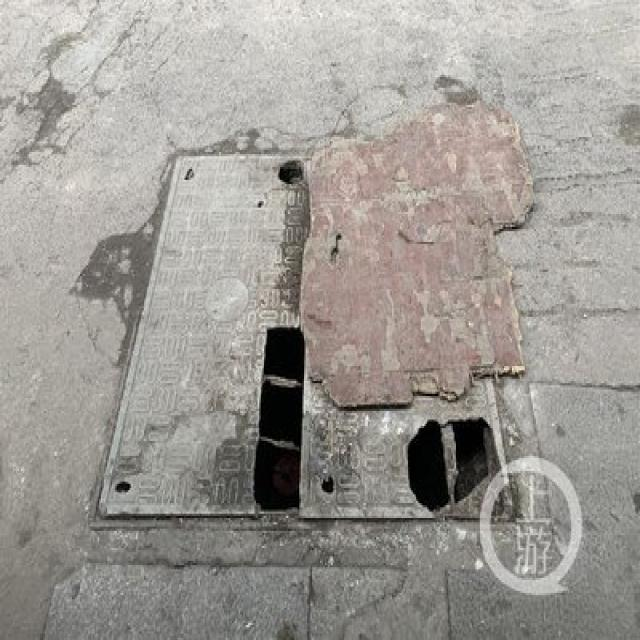manhole: (93, 128, 566, 538)
